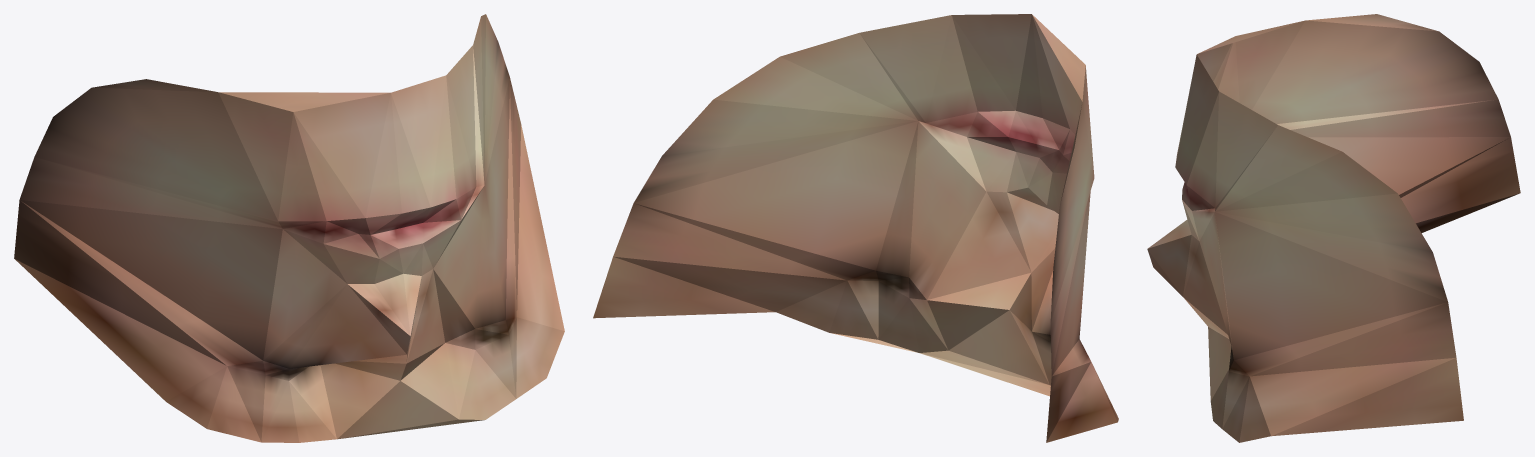
File: fake_5279.obj
The picture shows the model from 3 angles, left to right: view 1: azimuth 30°, elevation 25°; view 2: azimuth 150°, elevation 25°; view 3: azimuth 270°, elevation 25°; orthographic projection. The views are drawn at different scales.
Bounding box in the file's own units: 122 × 86 × 90.55.
